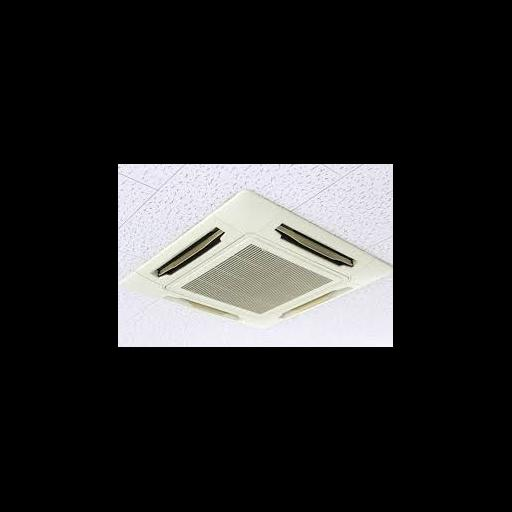4-way-ac: (120, 191, 392, 330)
